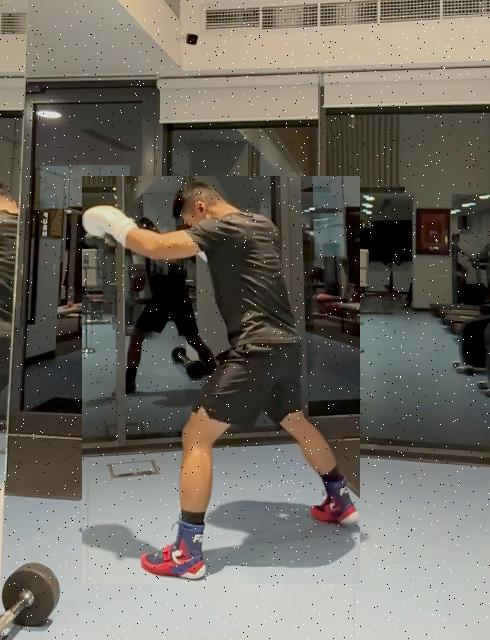punch: (82, 176, 360, 584)
